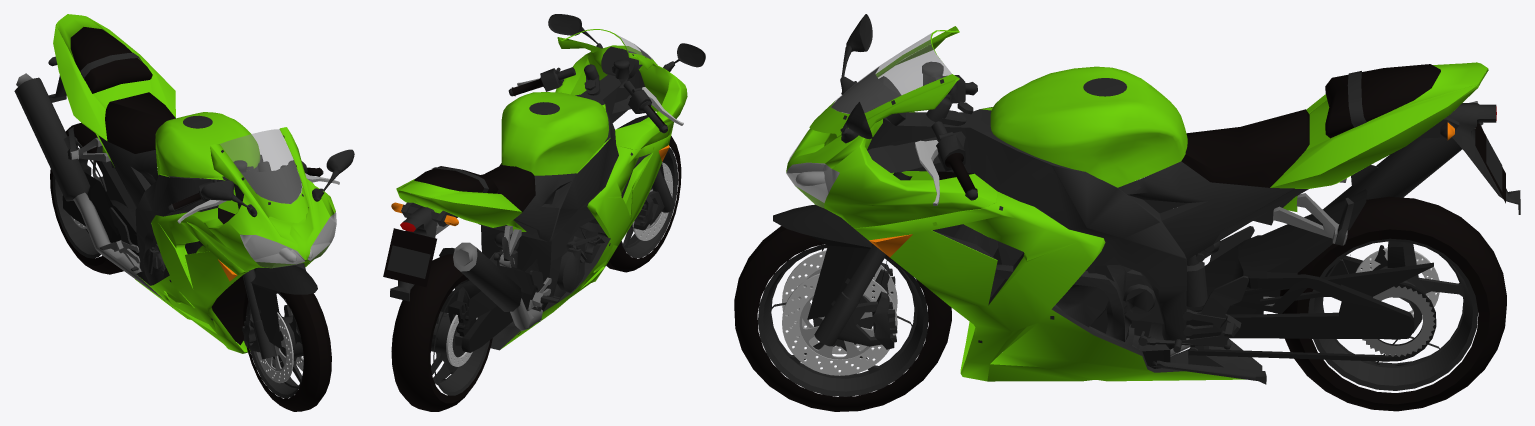
The model's file is moto2.glb.
The picture shows the model from 3 angles, left to right: view 1: azimuth 30°, elevation 25°; view 2: azimuth 150°, elevation 25°; view 3: azimuth 270°, elevation 25°; orthographic projection. The views are drawn at different scales.
Visible parts, largest first — view 1: G_3D_Object1_1, Group9, wheel0, G_3D_Object6_1, G_3D_Object3_1, wheel1, G_3D_Object2_1; view 2: G_3D_Object1_1, Group9, wheel1, G_3D_Object3_1, G_3D_Object2_1, wheel0, G_3D_Object6_1, Group4; view 3: G_3D_Object1_1, Group9, wheel1, wheel0, G_3D_Object3_1, G_3D_Object6_1, G_3D_Object2_1, Group4.
Boxes of the visible parts, bbox=[...] form: G_3D_Object1_1: bbox=[14, 14, 354, 353]; Group9: bbox=[99, 136, 263, 307]; wheel0: bbox=[243, 292, 331, 411]; G_3D_Object6_1: bbox=[242, 263, 317, 359]; G_3D_Object3_1: bbox=[62, 145, 138, 255]; wheel1: bbox=[50, 122, 129, 274]; G_3D_Object2_1: bbox=[168, 160, 339, 223]; G_3D_Object1_1: bbox=[383, 14, 705, 348]; Group9: bbox=[462, 64, 650, 350]; wheel1: bbox=[391, 254, 492, 411]; G_3D_Object3_1: bbox=[439, 248, 538, 352]; G_3D_Object2_1: bbox=[508, 59, 683, 133]; wheel0: bbox=[606, 136, 681, 272]; G_3D_Object6_1: bbox=[617, 115, 674, 230]; Group4: bbox=[431, 287, 465, 374]; G_3D_Object1_1: bbox=[786, 14, 1520, 381]; Group9: bbox=[867, 107, 1308, 384]; wheel1: bbox=[1280, 196, 1506, 411]; wheel0: bbox=[734, 226, 951, 411]; G_3D_Object3_1: bbox=[1186, 189, 1436, 361]; G_3D_Object6_1: bbox=[773, 172, 912, 349]; G_3D_Object2_1: bbox=[867, 61, 977, 205]; Group4: bbox=[1340, 242, 1464, 363].
Size of the model in its own units: 0.7688 by 1.14 by 2.2.
